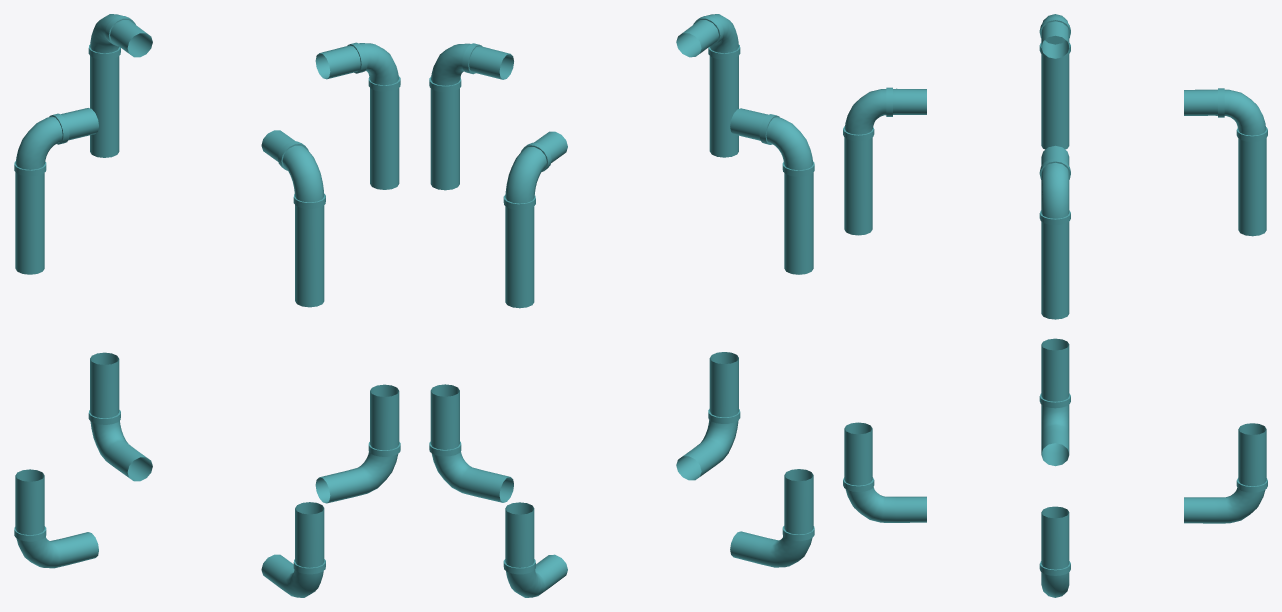
File: engine_pipes.fbx
3 views of the same model, side by side, from view 1: azimuth 30°, elevation 25°; view 2: azimuth 150°, elevation 25°; view 3: azimuth 270°, elevation 25° (orthographic). The views are drawn at different scales.
Parts seen in each view (by area): view 1: engine; view 2: engine; view 3: engine.
Part boxes in pixels (x1=…): engine: x1=14, y1=14, x2=400, y2=597; engine: x1=429, y1=14, x2=814, y2=597; engine: x1=843, y1=14, x2=1267, y2=597.
Bounding box in the file's own units: 302 × 341 × 303.
